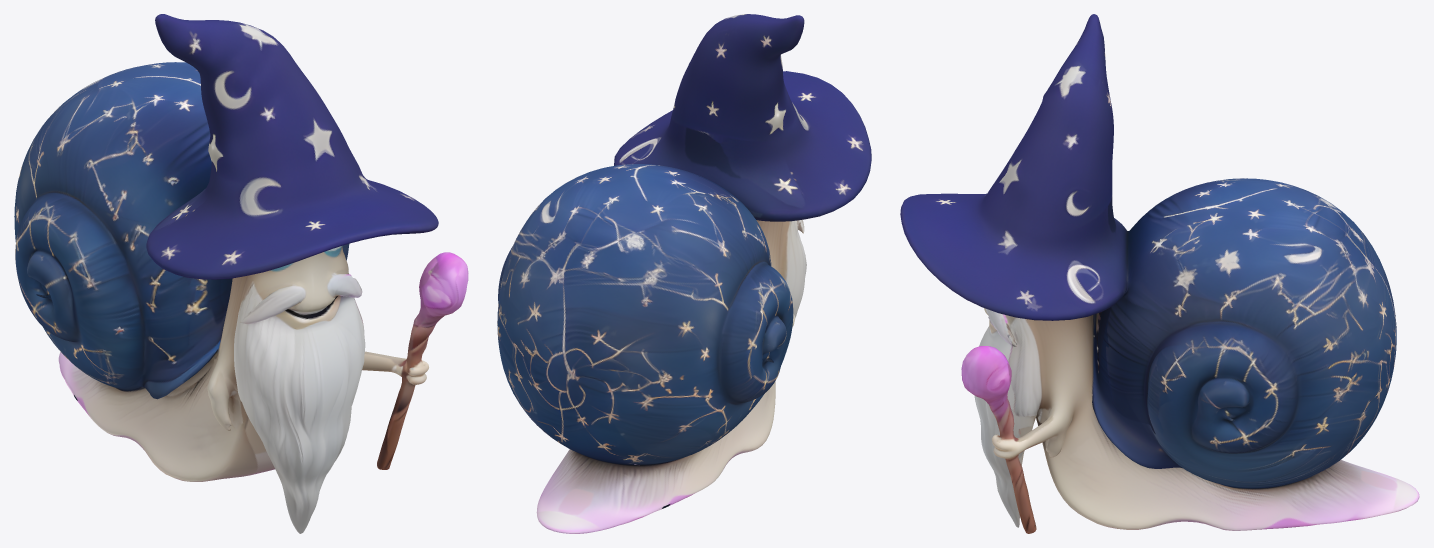
File: snail_2.glb
The picture shows the model from 3 angles, left to right: view 1: azimuth 30°, elevation 25°; view 2: azimuth 150°, elevation 25°; view 3: azimuth 270°, elevation 25°; orthographic projection. The views are drawn at different scales.
Visible parts, largest first — view 1: model; view 2: model; view 3: model.
Part boxes in pixels (<box>): model: <box>14,14,468,533</box>; model: <box>497,14,871,533</box>; model: <box>900,14,1419,533</box>.
Bounding box in the file's own units: 1.17 × 1.9 × 1.9.
1 material, 1 textured.
